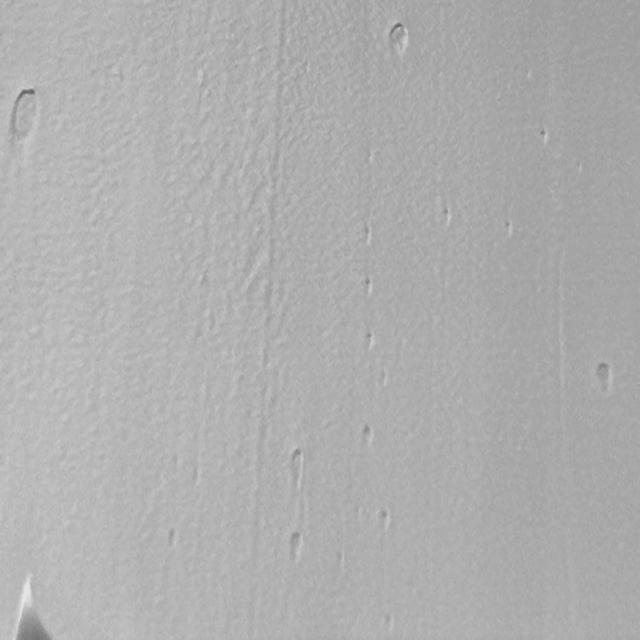pin holes: (2, 84, 44, 150), (385, 21, 410, 58), (592, 360, 616, 394), (286, 449, 306, 480), (286, 532, 304, 561), (360, 422, 378, 448), (376, 507, 393, 533), (358, 224, 376, 247), (439, 206, 456, 230), (535, 125, 552, 149), (382, 611, 399, 635), (376, 369, 391, 392), (166, 527, 180, 551), (363, 277, 376, 296), (364, 332, 376, 352), (504, 221, 516, 238)
